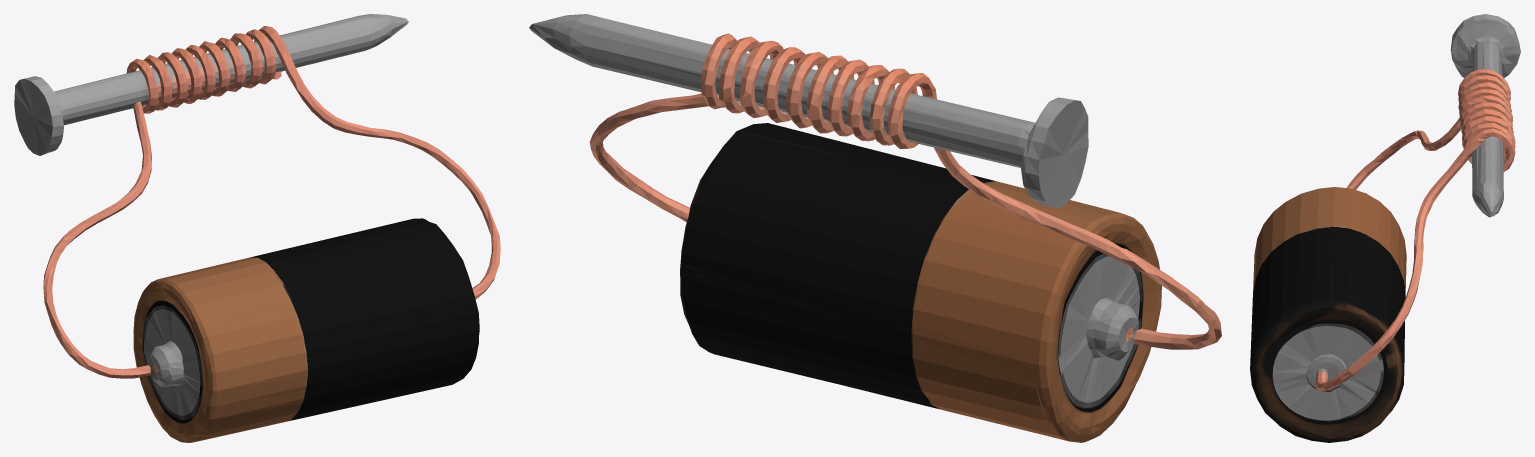
File: ElectroMagnetEdited.glb
The picture shows the model from 3 angles, left to right: view 1: azimuth 30°, elevation 25°; view 2: azimuth 150°, elevation 25°; view 3: azimuth 270°, elevation 25°; orthographic projection. The views are drawn at different scales.
Parts seen in each view (by area): view 1: mesh_node; view 2: mesh_node; view 3: mesh_node.
Boxes of the visible parts, x1,y1,x2,y2 form: mesh_node: [14, 14, 500, 442]; mesh_node: [529, 14, 1221, 442]; mesh_node: [1250, 14, 1520, 442].
Bounding box in the file's own units: 1 × 0.6875 × 0.5879.
Materials: 1 (1 with a texture image).
